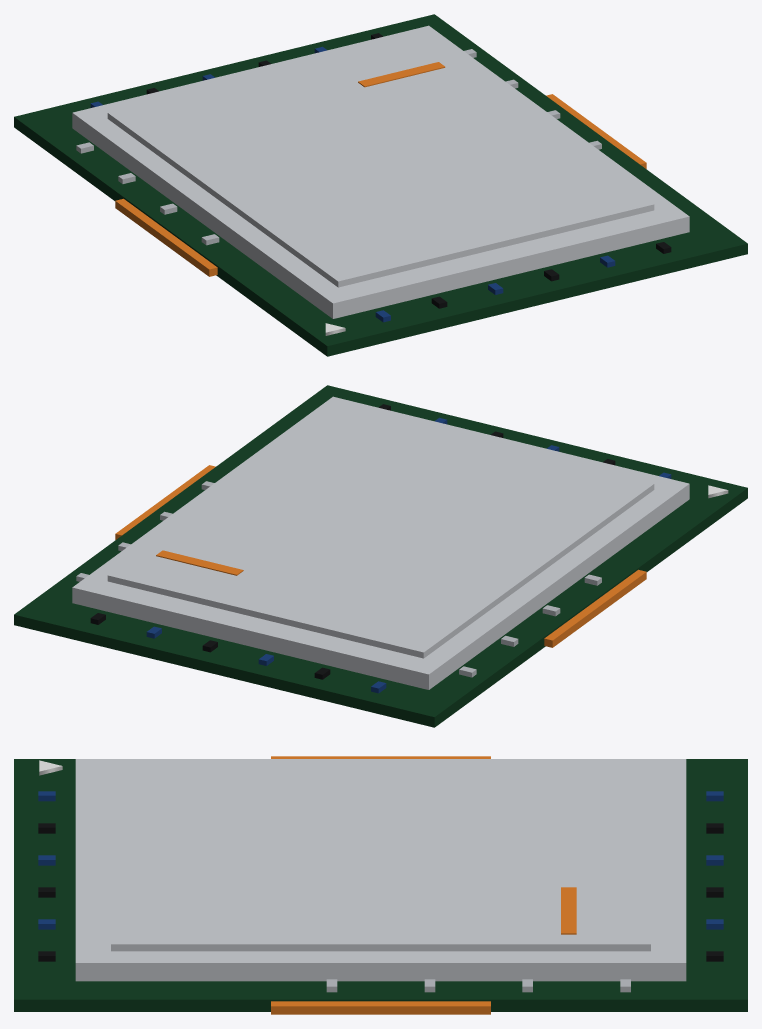
The model's file is hw_cpu_epyc_4564p.glb.
3 views of the same model, one above another, from view 1: azimuth 30°, elevation 25°; view 2: azimuth 150°, elevation 25°; view 3: azimuth 270°, elevation 25° (orthographic). The views are drawn at different scales.
Visible parts, largest first — view 1: Body; view 2: Body; view 3: Body.
Boxes of the visible parts, x1,y1,x2,y2 form: Body: (14, 14, 747, 356); Body: (14, 385, 747, 727); Body: (14, 756, 747, 1014).
Bounding box in the file's own units: 0.0608 × 0.00467 × 0.0755.
